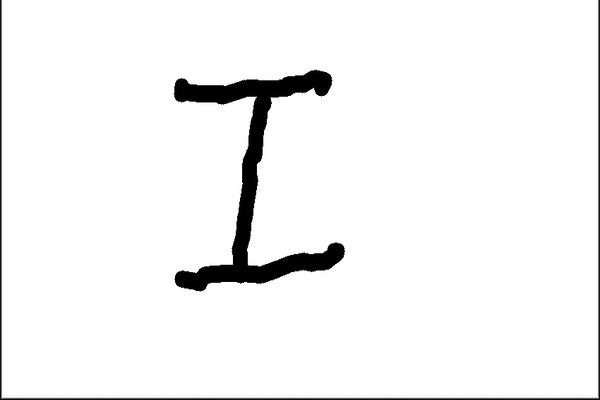i: (155, 65, 355, 297)
